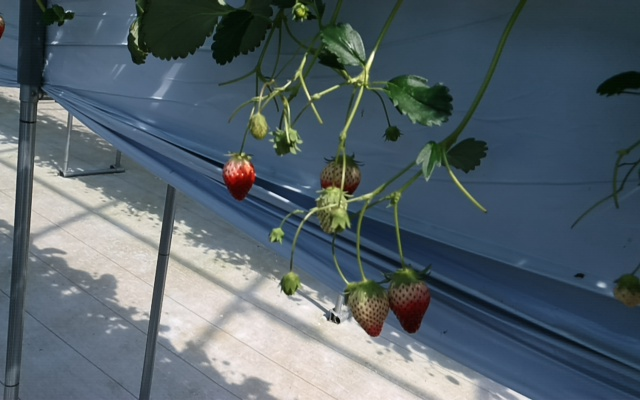GreenStrawberry: (345, 280, 390, 341), (317, 153, 362, 199), (315, 188, 349, 238), (614, 270, 640, 308), (251, 113, 268, 143)
MatureStrawberry: (388, 276, 431, 335), (221, 153, 258, 206)
